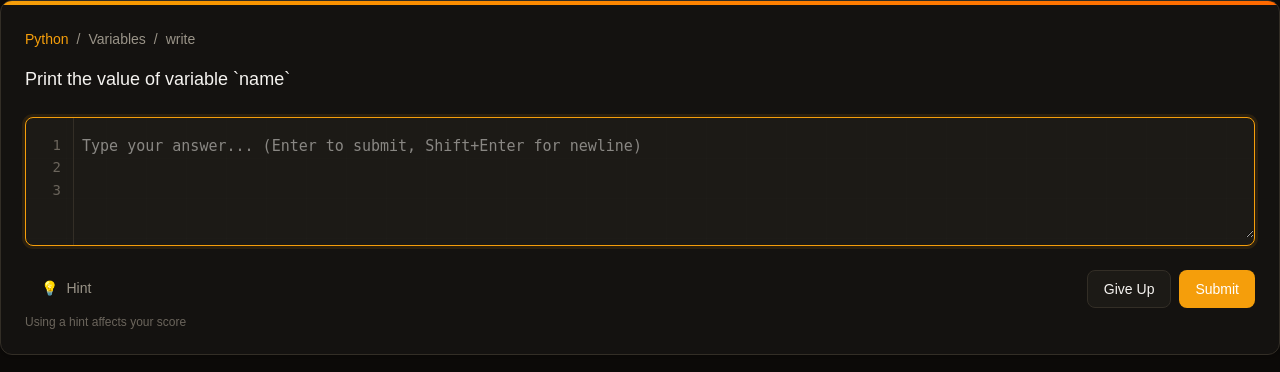
it: ExerciseCard › submit flow › shows incorrect feedback for wrong answer
Step 1. Replace the text in the text box with "print name" → (640, 178), box 26,118 -> 1254,238
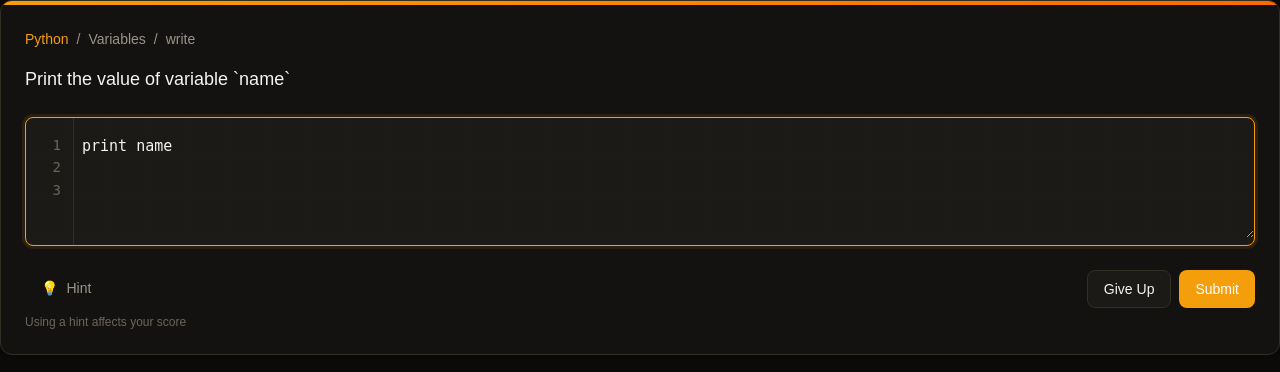
Step 2. Click the button "Submit" → (1217, 289), box 1179,270 -> 1255,308
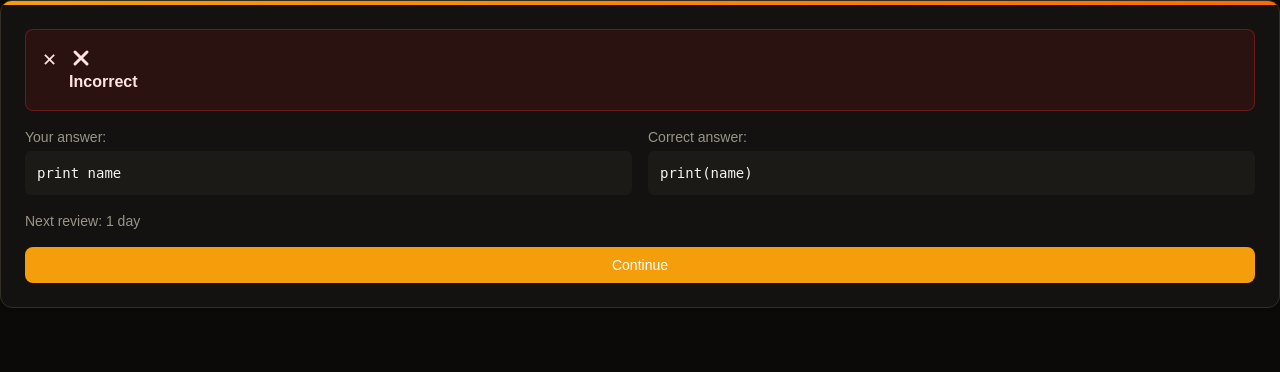
Now the message shows "Incorrect", box 69,73 -> 138,90
